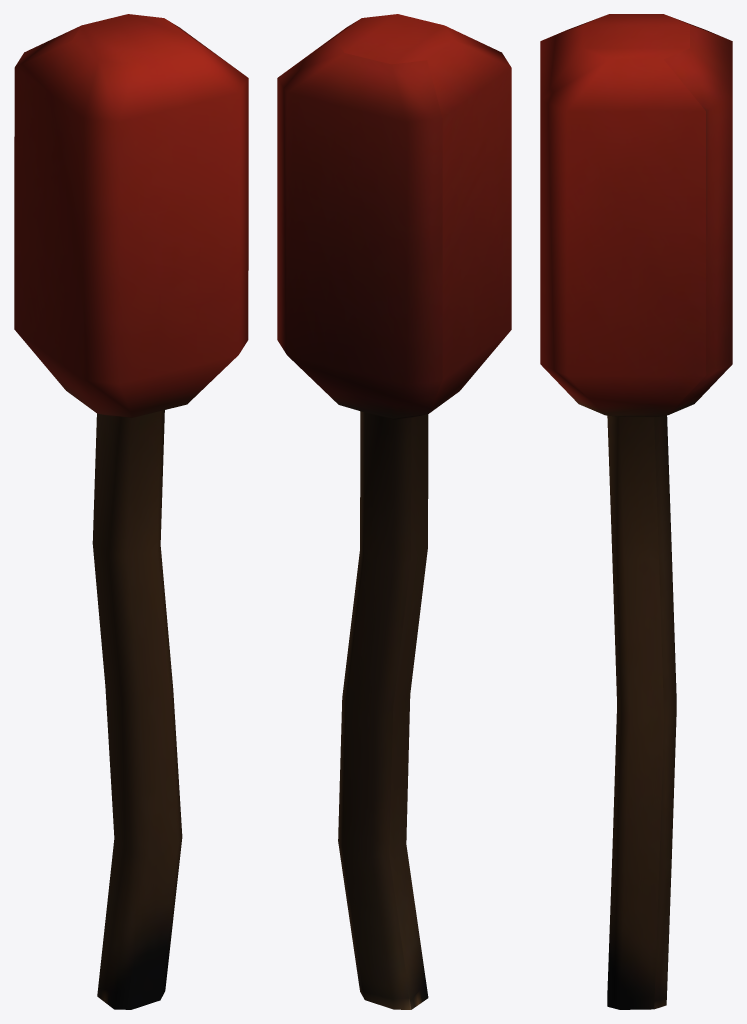
The model's file is lever_model.glb.
The picture shows the model from 3 angles, left to right: view 1: azimuth 30°, elevation 25°; view 2: azimuth 150°, elevation 25°; view 3: azimuth 270°, elevation 25°; orthographic projection.
Visible parts, largest first — view 1: lever_t3; view 2: lever_t3; view 3: lever_t3.
Part boxes in pixels (x1,y1,x2,y2): lever_t3: [14, 14, 248, 1009]; lever_t3: [277, 14, 511, 1009]; lever_t3: [540, 14, 732, 1009].
Size of what is drawn, in the model's own units: 0.2321 by 1.29 by 0.2322.
Materials: 1 (1 with a texture image).
